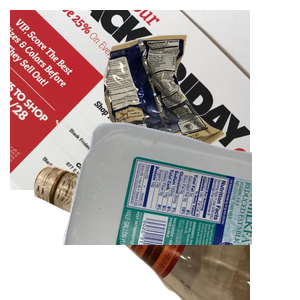glass: (31, 120, 271, 300)
paper: (10, 10, 250, 190)
plastic: (60, 120, 300, 300)
trash: (101, 32, 300, 195)
